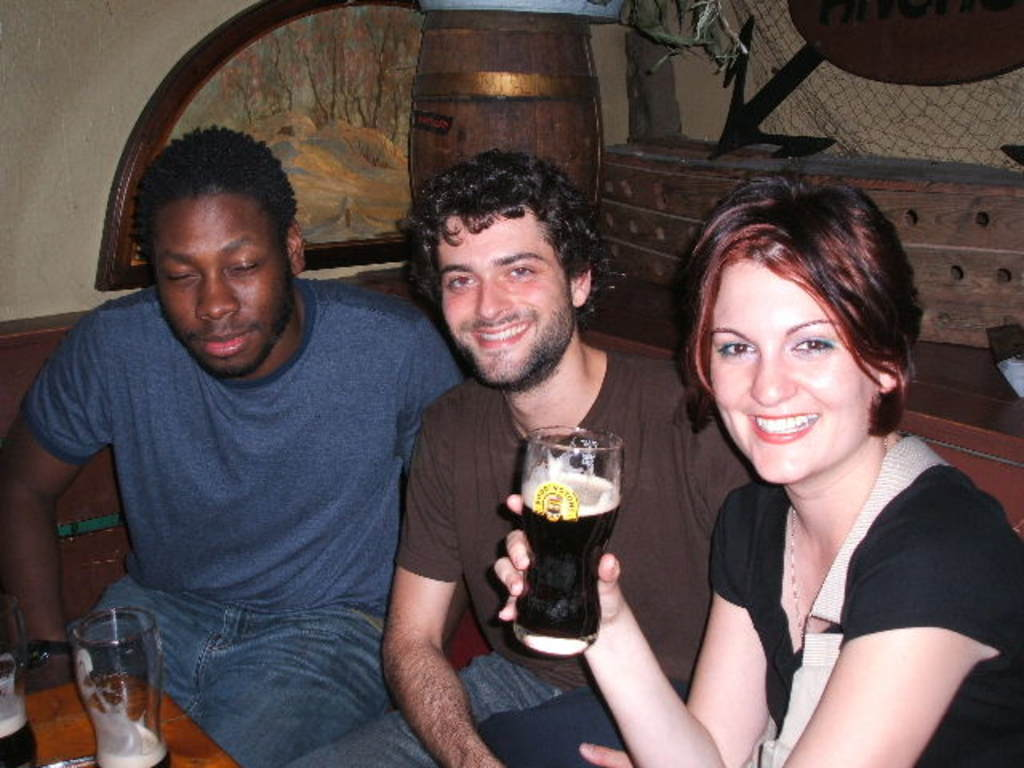Beer: (518, 467, 615, 659), (88, 716, 174, 766), (0, 702, 43, 766)
